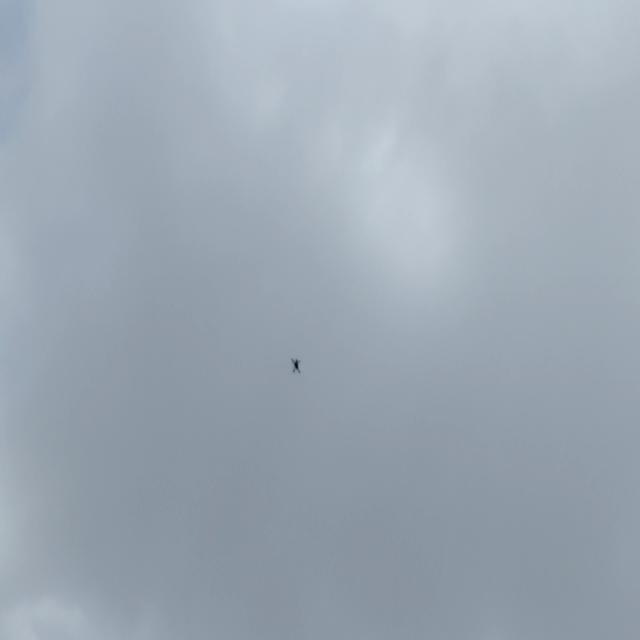drone: (288, 356, 304, 379)
